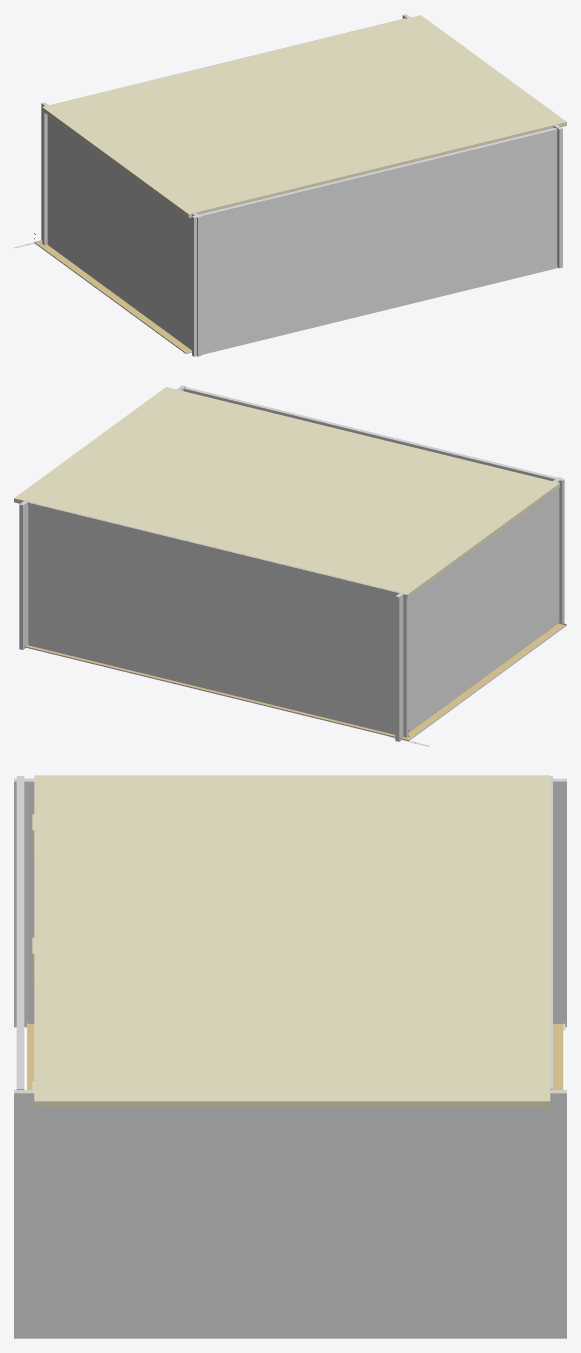
File: Room2.fbx
3 views of the same model, one above another, from view 1: azimuth 30°, elevation 25°; view 2: azimuth 150°, elevation 25°; view 3: azimuth 270°, elevation 25° (orthographic). The views are drawn at different scales.
Visible parts, largest first — view 1: Cube.050, Cube.047, Cube.048, Cube.046, Floor, Cube.049; view 2: Cube.050, Cube.046, Cube.048, Cube.047, Floor, Cube.049, Baseboard; view 3: Cube.050, Cube.049, Cube.048, Cube.047, Floor, Cube.046.
Part boxes in pixels (left/top/right/bottom): Cube.050: left=42, top=15, right=566, bottom=217; Cube.047: left=192, top=128, right=557, bottom=356; Cube.048: left=41, top=102, right=201, bottom=356; Cube.046: left=42, top=18, right=405, bottom=245; Floor: left=36, top=241, right=191, bottom=352; Cube.049: left=402, top=14, right=562, bottom=268; Cube.050: left=14, top=387, right=559, bottom=598; Cube.046: left=28, top=502, right=408, bottom=737; Cube.048: left=395, top=477, right=562, bottom=741; Cube.047: left=184, top=387, right=564, bottom=623; Floor: left=26, top=623, right=564, bottom=739; Cube.049: left=19, top=385, right=185, bottom=649; Baseboard: left=24, top=622, right=566, bottom=740; Cube.050: left=34, top=775, right=550, bottom=1108; Cube.049: left=14, top=1090, right=566, bottom=1338; Cube.048: left=14, top=778, right=566, bottom=1027; Cube.047: left=16, top=776, right=24, bottom=1089; Floor: left=27, top=1024, right=562, bottom=1089; Cube.046: left=550, top=776, right=552, bottom=1089.
Bounding box in the file's own units: 4341 × 1433 × 2924.
